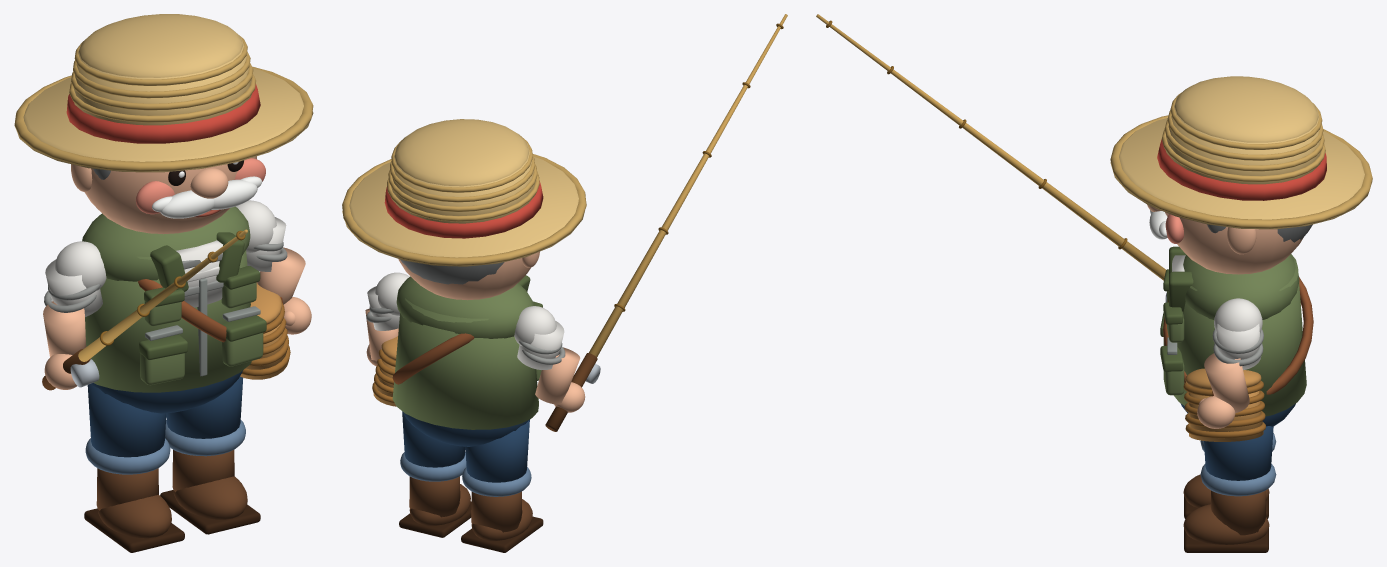
Rendered from gensan_character.glb.
3 views of the same model, side by side, from view 1: azimuth 30°, elevation 25°; view 2: azimuth 150°, elevation 25°; view 3: azimuth 270°, elevation 25° (orthographic). The views are drawn at different scales.
Parts seen in each view (by area): view 1: HatBrim, HatTop, TorsoVest, TorsoShoulders, HeadMain, HatCrown, HatBrimEdge, RightLegPivot_Denim, HatRedRibbon, LeftLegPivot_Denim, LeftLegPivot_BootFoot, RightLegPivot_BootFoot (+44 smaller); view 2: TorsoVest, HatBrim, HatTop, TorsoShoulders, HatBrimEdge, HatCrown, RightLegPivot_Denim, HatRedRibbon, BambooShaft, HeadMain, LeftLegPivot_Denim, LeftLegPivot_BootShaft (+21 smaller); view 3: HatBrim, HatTop, TorsoVest, TorsoShoulders, HeadMain, HatBrimEdge, HatCrown, BambooShaft, HatRedRibbon, LeftLegPivot_Denim, LeftLegPivot_BootShaft, LeftLegPivot_BootFoot (+14 smaller).
Part boxes in pixels (x1,y1,x2,y2): HatBrim: [16, 68, 313, 172]; HatTop: [79, 14, 243, 77]; TorsoVest: [85, 235, 251, 392]; TorsoShoulders: [82, 206, 250, 281]; HeadMain: [84, 156, 256, 234]; HatCrown: [73, 37, 251, 125]; HatBrimEdge: [14, 66, 313, 171]; RightLegPivot_Denim: [87, 384, 166, 457]; HatRedRibbon: [66, 84, 260, 143]; LeftLegPivot_Denim: [166, 376, 243, 438]; LeftLegPivot_BootFoot: [173, 476, 247, 519]; RightLegPivot_BootFoot: [97, 494, 171, 538]; TorsoVest: [392, 298, 538, 429]; HatBrim: [342, 157, 586, 266]; HatTop: [395, 119, 528, 186]; TorsoShoulders: [396, 276, 534, 338]; HatBrimEdge: [342, 154, 586, 265]; HatCrown: [391, 143, 535, 223]; RightLegPivot_Denim: [465, 420, 529, 482]; HatRedRibbon: [384, 181, 543, 238]; BambooShaft: [589, 14, 787, 357]; HeadMain: [398, 258, 530, 300]; LeftLegPivot_Denim: [402, 412, 465, 467]; LeftLegPivot_BootShaft: [409, 476, 460, 517]; HatBrim: [1110, 118, 1368, 229]; HatTop: [1175, 76, 1318, 142]; TorsoVest: [1174, 254, 1306, 416]; TorsoShoulders: [1183, 254, 1299, 319]; HeadMain: [1165, 212, 1303, 274]; HatBrimEdge: [1110, 115, 1372, 228]; HatCrown: [1165, 97, 1320, 184]; BambooShaft: [816, 14, 1165, 280]; HatRedRibbon: [1157, 139, 1326, 200]; LeftLegPivot_Denim: [1204, 426, 1273, 480]; LeftLegPivot_BootShaft: [1210, 490, 1265, 535]; LeftLegPivot_BootFoot: [1183, 504, 1269, 544].
Bounding box in the file's own units: 0.8784 × 1.45 × 1.64.
